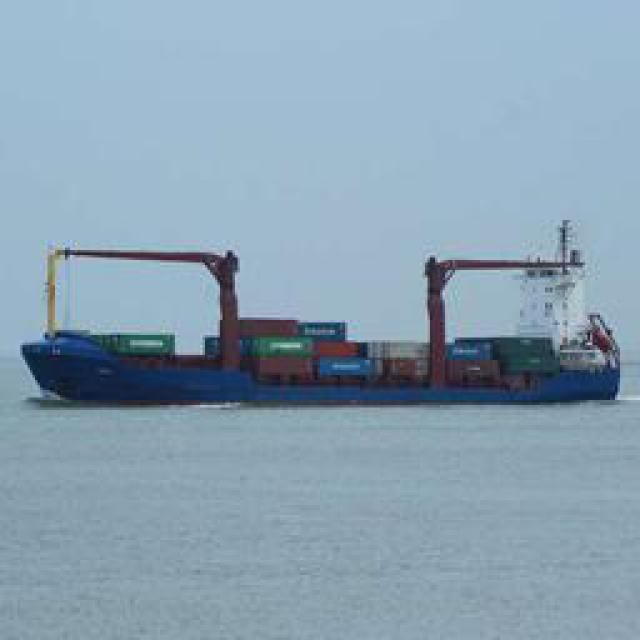Ship: (20, 233, 623, 408)
